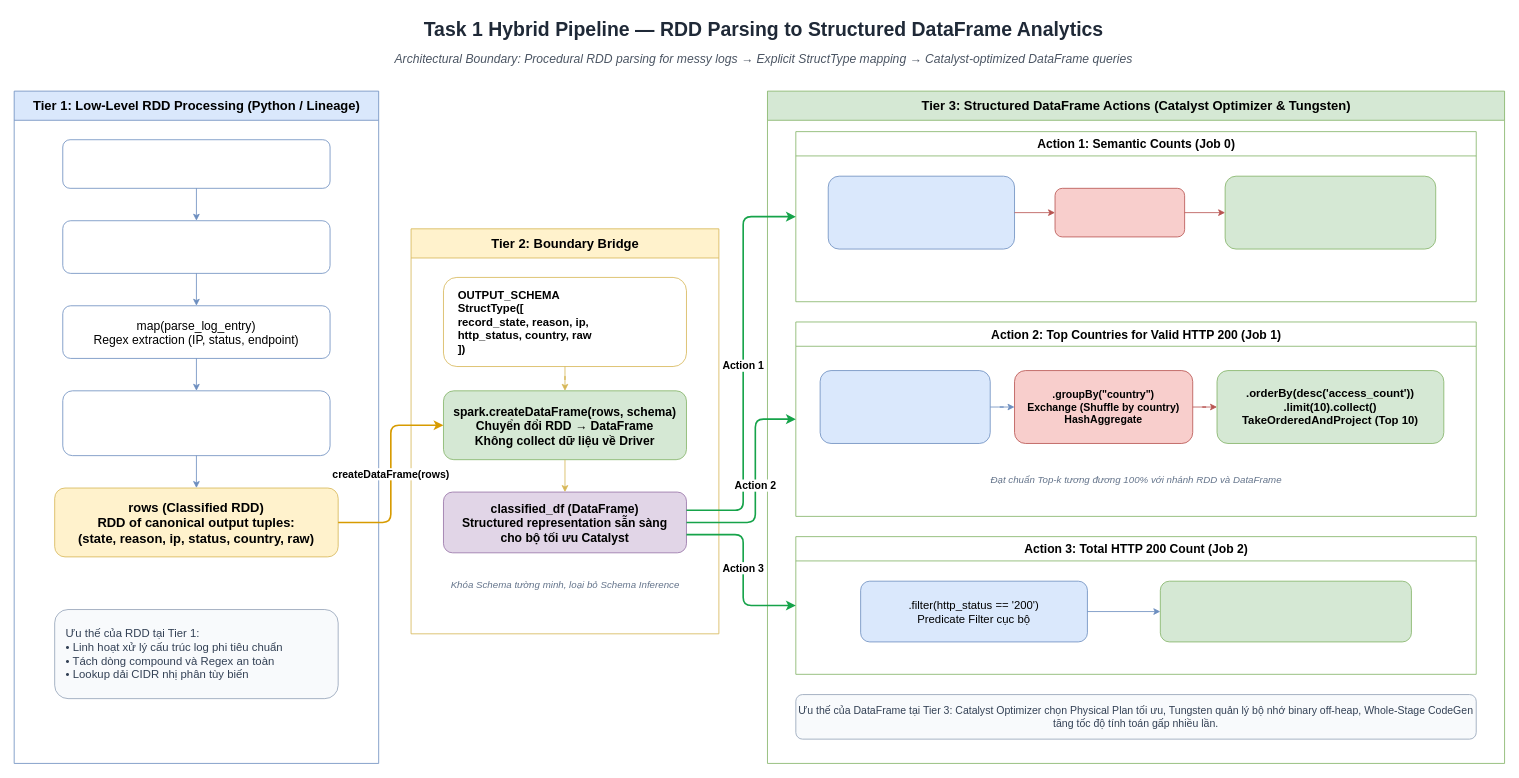
This 1519x778 diagram has some shape labels left out. The shapes that lost their labels are listed below. From the top down, each one's centre as x and y in pixels, then its label:
the point at 196,163: sc.textFile(input_path) Read raw text files as RDD[String]
the point at 921,212: classified_df .groupBy("record_state") Partial HashAggregate
the point at 1119,212: Exchange hashpartitioning (Shuffle by state)
the point at 1330,212: .count().collect() Final HashAggregate → Valid, Malformed, Unknown
the point at 196,246: flatMap(unpack_compound_logs) Split compound logs (; separator)
the point at 196,423: map(_classify_parsed) + Broadcast CIDR Lookup Table Valid / Malformed / Unknown
the point at 904,406: .filter(state == 'valid' & status == '200') Catalyst Filter Pushdown
the point at 1285,611: .count() Narrow Stage (No Shuffle boundary) Partial count → Sum at Driver
